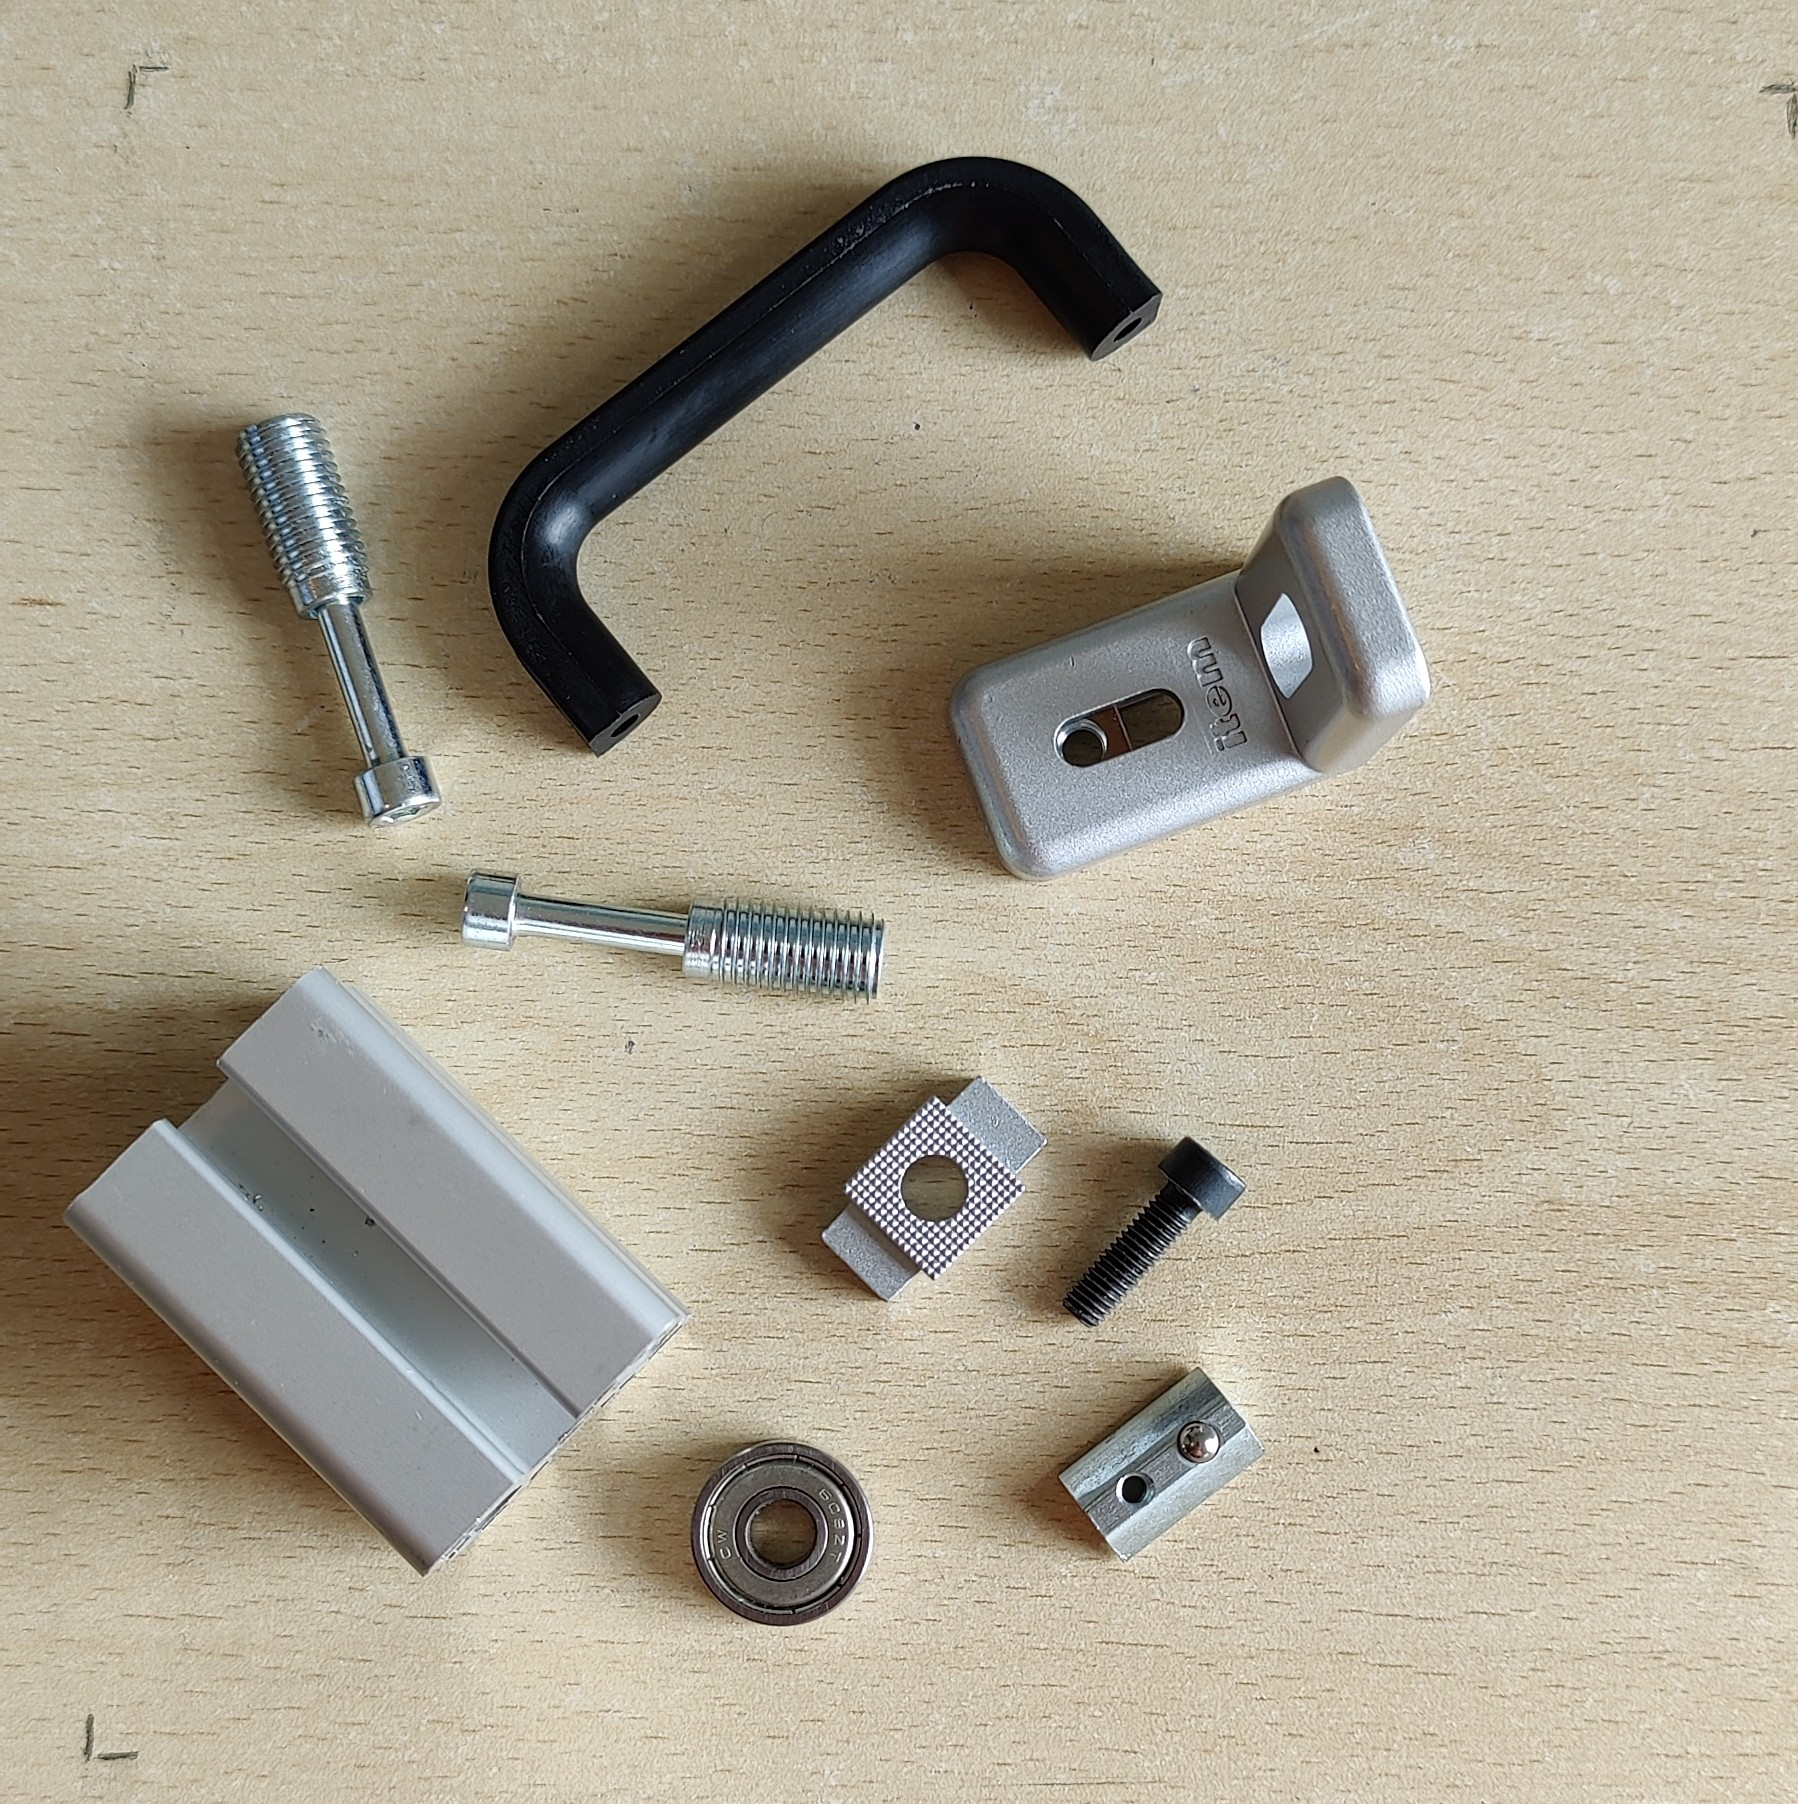Aluminium Extension: (61, 961, 700, 1582)
Ball Bearing: (688, 1439, 876, 1630)
Multiwinkel: (943, 476, 1432, 886)
Pull Handle: (487, 153, 1167, 760)
Shoulder Socket Head Cap Screw: (232, 407, 445, 831), (458, 862, 889, 1007)
Socket Head Cap Screw: (1060, 1129, 1246, 1333)
T Nut Square: (818, 1072, 1052, 1305)
T Spring Nut: (1055, 1371, 1266, 1564)
